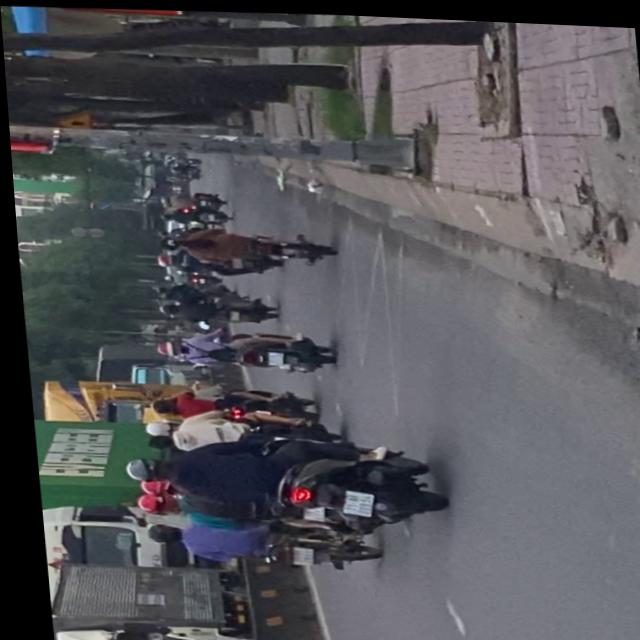helmet: (115, 455, 163, 483), (125, 489, 169, 515), (134, 522, 174, 546)
licenseplate: (111, 426, 438, 532), (130, 510, 371, 574)
nohelmet: (332, 488, 365, 514), (282, 545, 304, 563)
